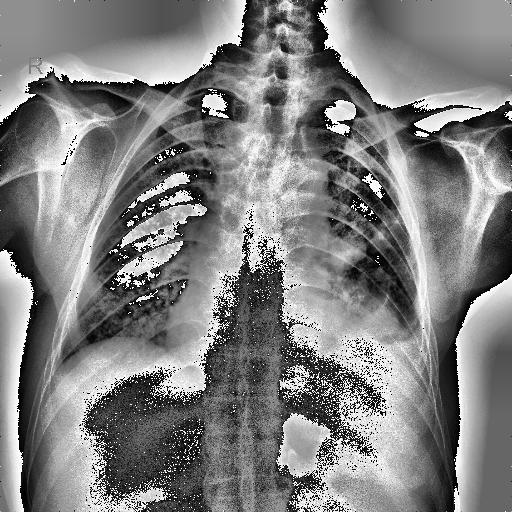0- Aortic enlargement: (278, 153, 330, 215)
10- Pleural effusion: (352, 321, 429, 383), (362, 312, 430, 368), (385, 320, 427, 370)
13- Pulmonary fibrosis: (369, 214, 401, 242)
3- Cardiomegaly: (168, 288, 340, 366)
4- Consolidation: (326, 209, 404, 270), (344, 268, 410, 334), (346, 288, 398, 338), (324, 236, 364, 269), (330, 234, 365, 268)
5- ILD: (74, 196, 178, 350)
6- Infiltration: (340, 206, 420, 327), (94, 268, 178, 342), (344, 268, 410, 334)
7- Lung Opacity: (74, 196, 178, 350), (326, 209, 404, 270), (344, 268, 410, 334), (346, 298, 402, 340)
8- Nodule-Mass: (74, 196, 178, 350)
